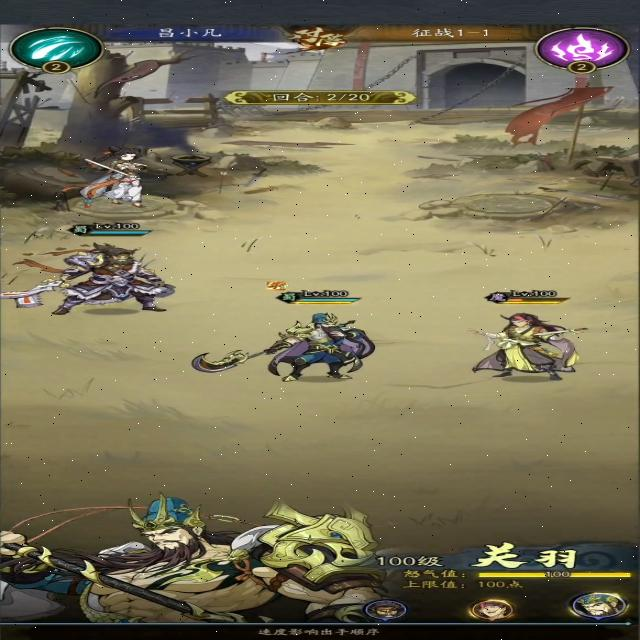hint-guide: (259, 625, 390, 637)
